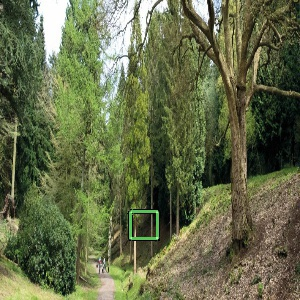square: (125, 207, 161, 243)
